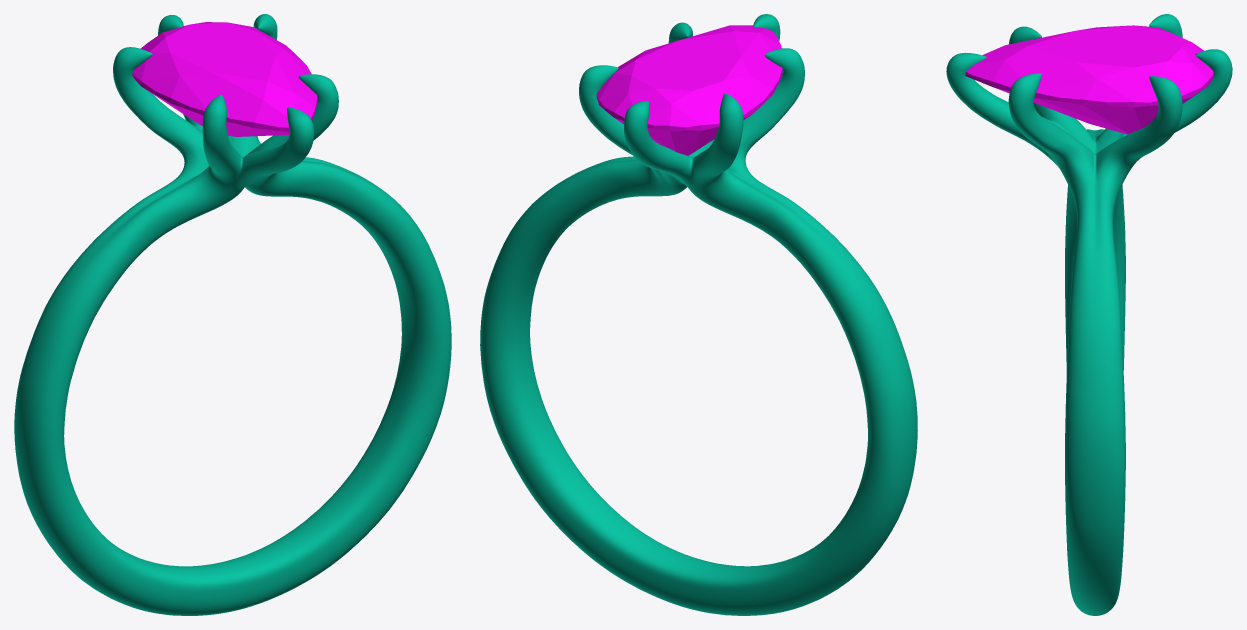
File: BE1353_PE_200ct_RENDER.glb
The picture shows the model from 3 angles, left to right: view 1: azimuth 30°, elevation 25°; view 2: azimuth 150°, elevation 25°; view 3: azimuth 270°, elevation 25°; orthographic projection.
Parts seen in each view (by area): view 1: Metal 01, CS_Diamond_Pear; view 2: Metal 01, CS_Diamond_Pear; view 3: Metal 01, CS_Diamond_Pear.
Boxes of the visible parts, box(x1,y1,x2,y2) form: Metal 01: box(14, 14, 451, 615); CS_Diamond_Pear: box(132, 22, 317, 136); Metal 01: box(480, 14, 917, 615); CS_Diamond_Pear: box(596, 25, 782, 155); Metal 01: box(946, 14, 1232, 615); CS_Diamond_Pear: box(965, 25, 1213, 134).
Bounding box in the file's own units: 20.03 × 24.89 × 11.8.
